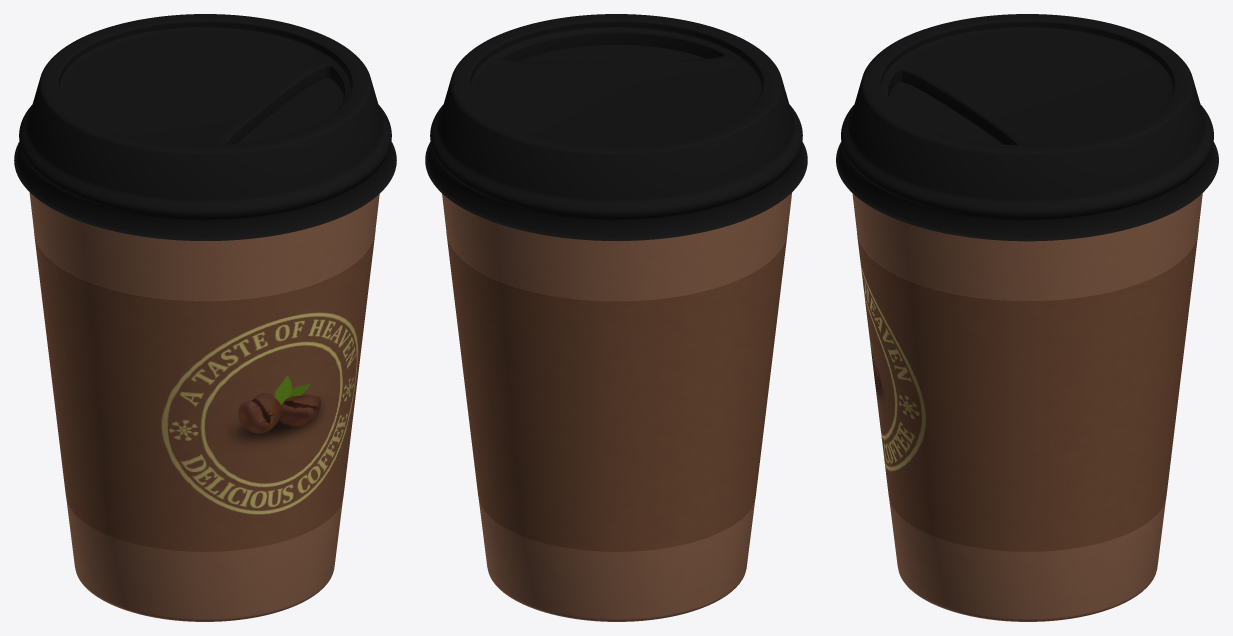
Rendered from coffee_cup.glb.
3 renders of one model, left to right at view 1: azimuth 30°, elevation 25°; view 2: azimuth 150°, elevation 25°; view 3: azimuth 270°, elevation 25°, orthographic.
Parts seen in each view (by area): view 1: coffee_cup; view 2: coffee_cup; view 3: coffee_cup.
Boxes of the visible parts, box(x1,y1,x2,y2) form: coffee_cup: box(14, 14, 396, 621); coffee_cup: box(425, 14, 807, 621); coffee_cup: box(836, 14, 1218, 621).
Size of the model in its own units: 0.5217 by 0.7324 by 0.5217.
1 material, 1 textured.
